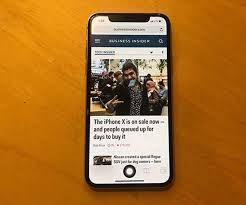iphone: (86, 11, 174, 190)
iphone10: (86, 11, 174, 190)
